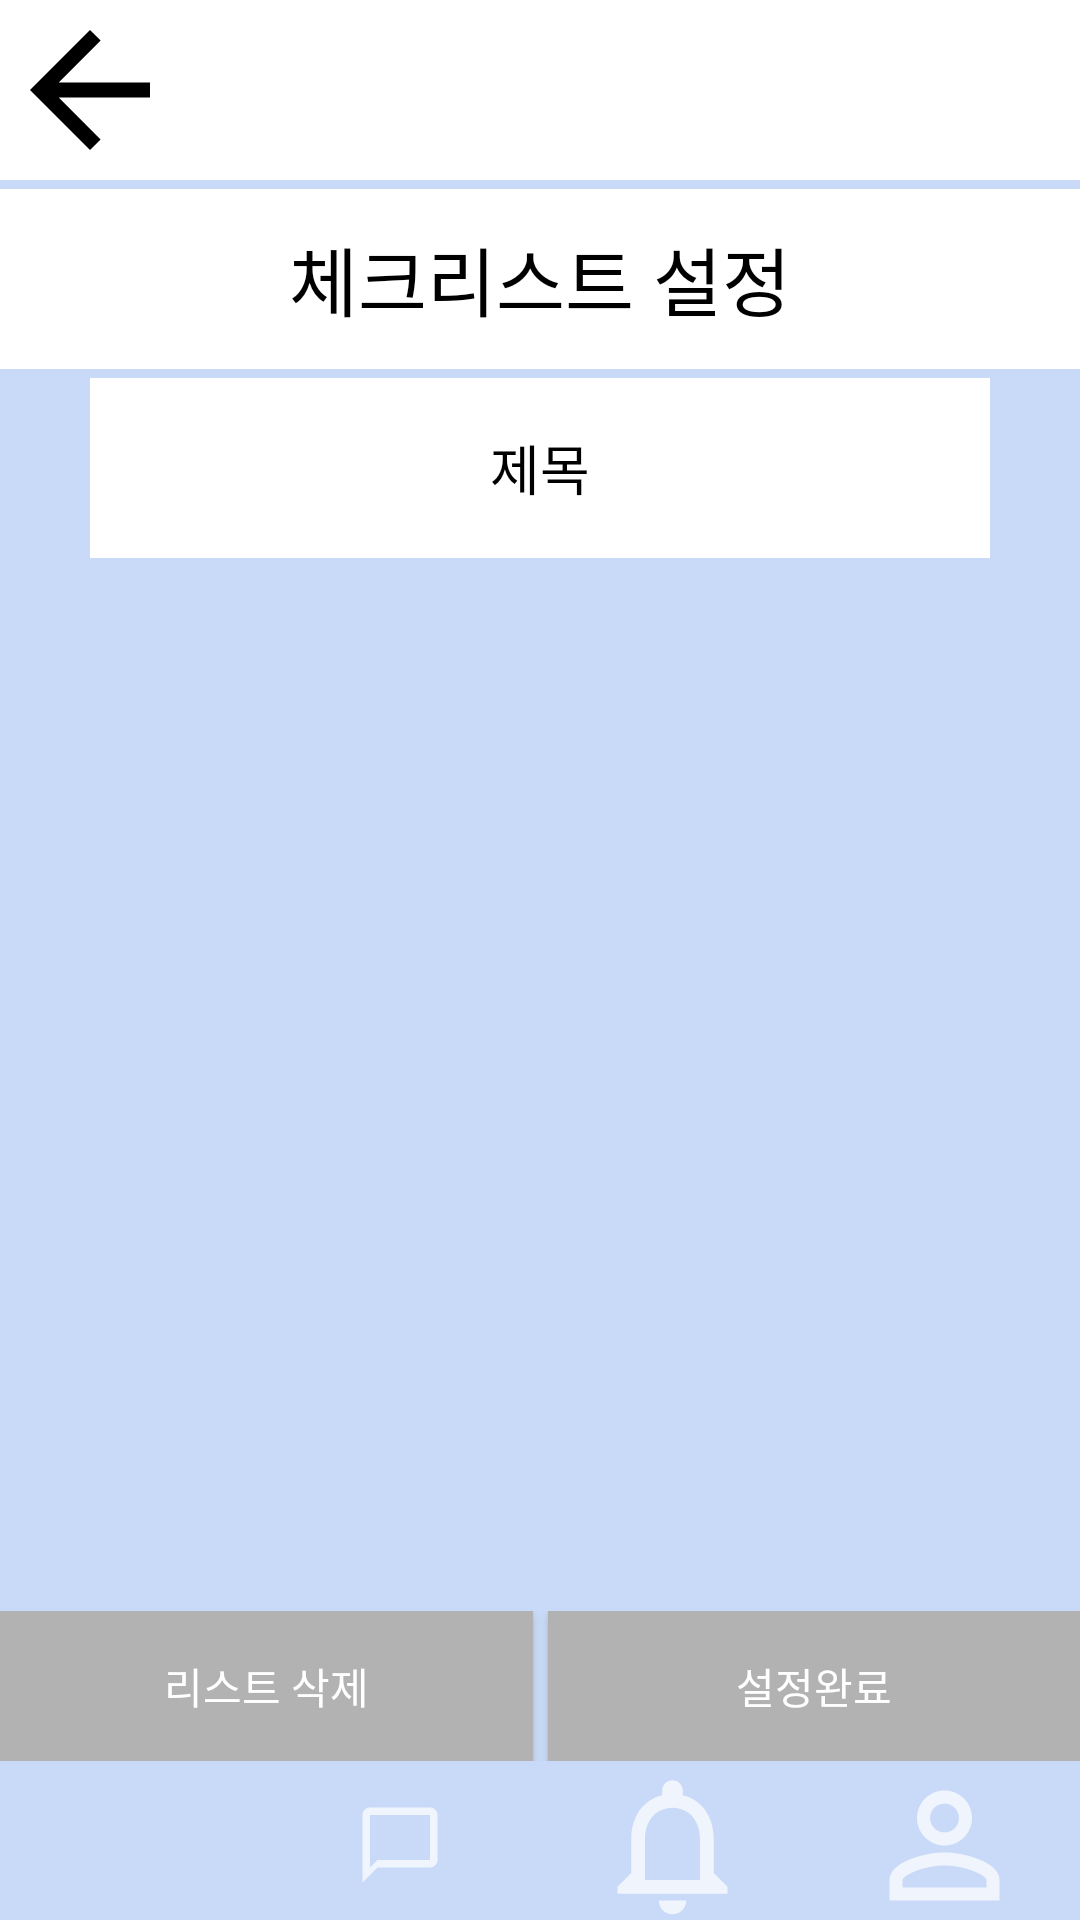

Named icons in this screenshot (1080 x 1920) and their centers, point (x, y):
arrow back: point (90, 90)
chat bubble: point (400, 1844)
notifications none: point (672, 1847)
person: point (944, 1845)
